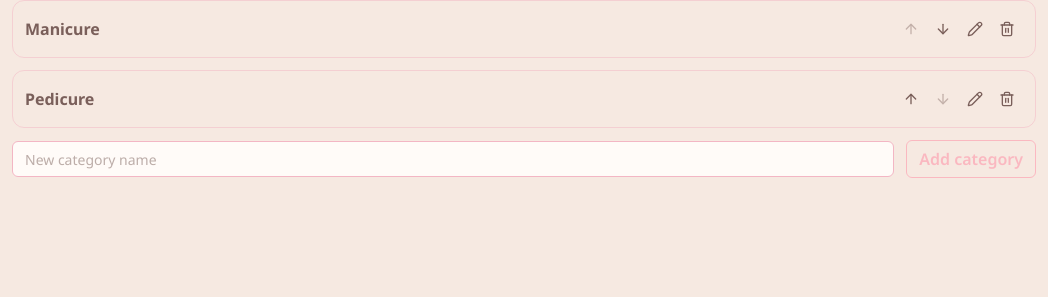
Test: CategoryPanel › keeps the rename editor open when rename fails
The width and height of the screenshot is (1048, 297).
Click the button named "rename category pedicure" at (975,99), box x1=959 y1=83 x2=991 y2=115
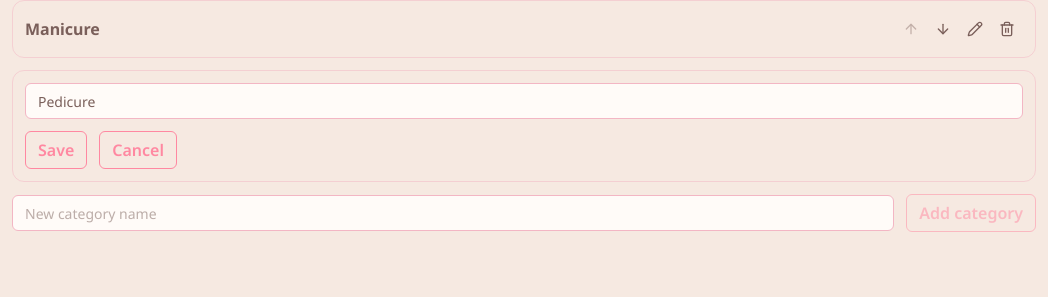
Replace the text in the field named "rename pedicure" with "Manicure" at (524,101), box x1=25 y1=83 x2=1023 y2=119
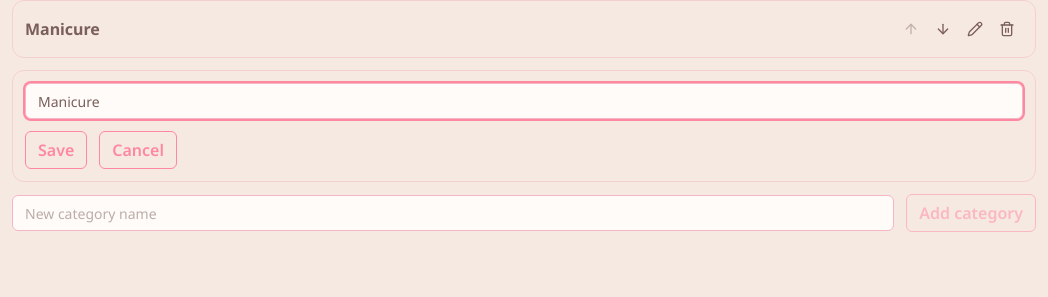
Click the button "Save" at (56,150), box x1=25 y1=131 x2=87 y2=169
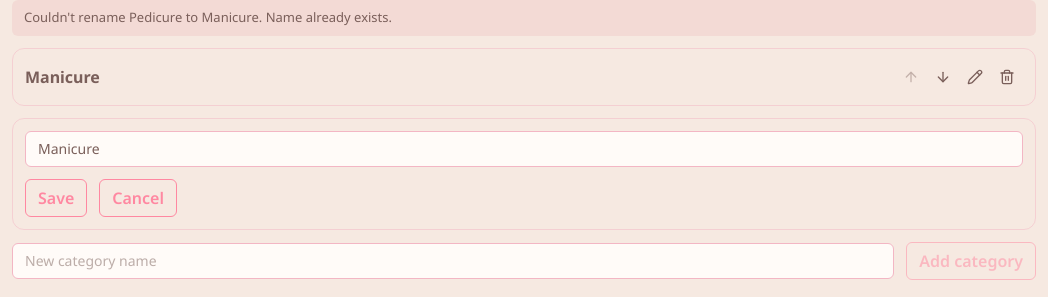
Expected: the message shows "Name already exists.", x1=24 y1=8 x2=392 y2=26
